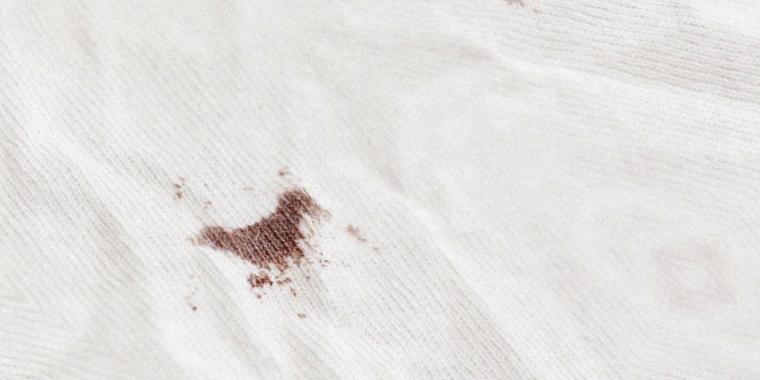stain: (197, 188, 336, 292)
